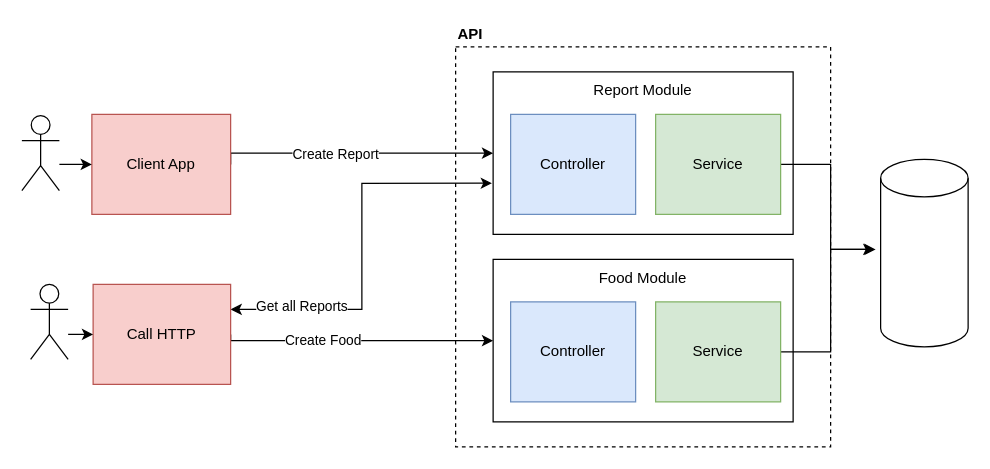
This 990x469 diagram has some shape labels left out. Here are the shapes that lost their labels. From the top down, the centre of each, then its label:
At (x=40, y=152): "User".
At (x=923, y=252): "Mongo".
At (x=48, y=321): "Scientist".
